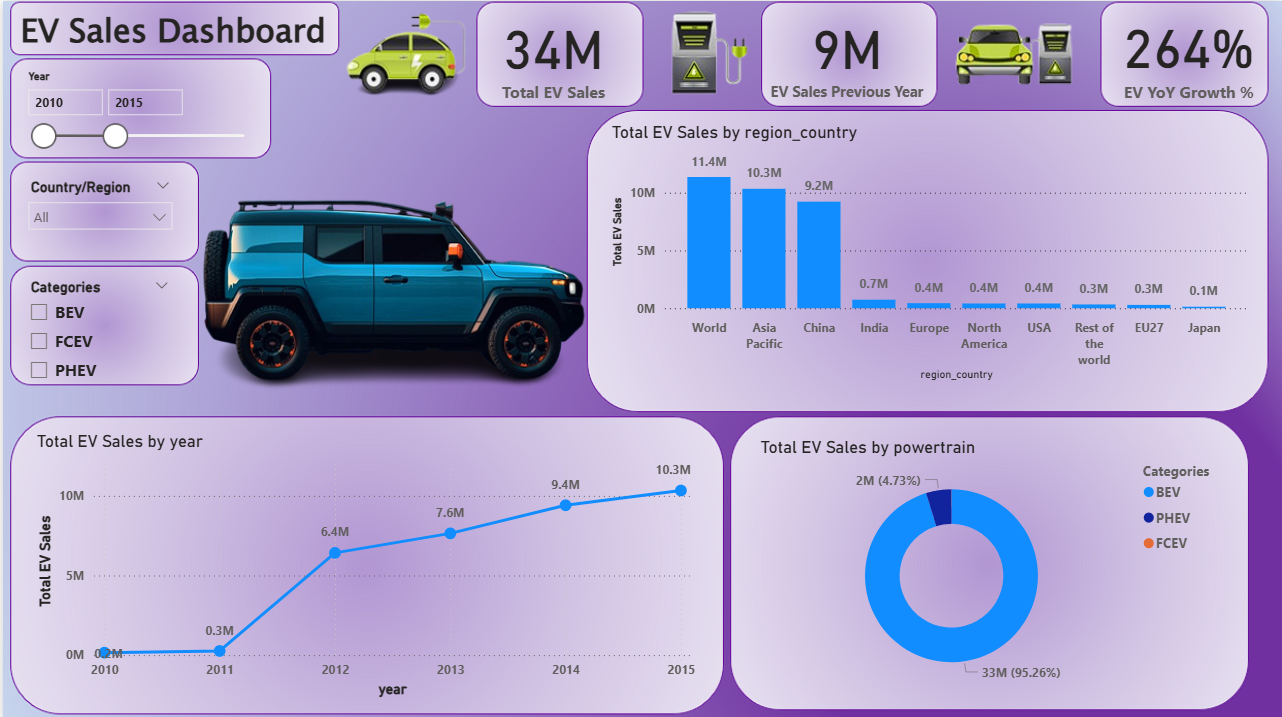

This screenshot's page, from the dashboard's own definition file:
{"tool":"powerbi","page":{"name":"EV Sales","canvas":[1280,720],"ordinal":0},"visuals":[{"type":"lineChart","fields":{"Y":["Sheet1.Total EV Sales"],"Category":["Sheet1.year"]},"box":[29,429.5,668.4,271.4],"z":0},{"type":"slicer","fields":{"Values":["Sheet1.region_country"]},"box":[14.5,172.5,164.1,80.8],"z":1000},{"type":"slicer","fields":{"Values":["Sheet1.year"]},"box":[12.5,63.8,250,85],"z":2000},{"type":"slicer","fields":{"Values":["Sheet1.powertrain"]},"box":[14.5,272.7,162.9,123.1],"z":3000},{"type":"card","fields":{"Values":["Sheet1.Total EV Sales"]},"box":[468.3,1.2,163.9,102.7],"z":4000},{"type":"lineStackedColumnComboChart","fields":{"Category":["Sheet1.region_country"],"Y":["Sheet1.Total EV Sales"]},"box":[603.2,121.9,646.7,263],"z":5000},{"type":"donutChart","fields":{"Category":["Sheet1.powertrain"],"Y":["Sheet1.Total EV Sales"]},"box":[752.8,436.7,481.4,258.2],"z":6000},{"type":"textbox","box":[12.1,1.2,329.4,62.7],"z":7000},{"type":"card","fields":{"Values":["Sheet1.EV YoY Growth %"]},"box":[1090.8,0,189.5,103.9],"z":8000},{"type":"card","fields":{"Values":["Sheet1.EV Sales Previous Year"]},"box":[752.8,0,183.4,103.8],"z":9000}]}

Visuals, with their boxes in screenshot pixels (x1, y1, x2, y2), scaled from the page's 1280x720 canvas onto the 1282x717 screenshot:
lineChart - Sheet1.Total EV Sales x Sheet1.year: [x1=29, y1=428, x2=698, y2=698]
slicer - Sheet1.region_country: [x1=15, y1=172, x2=179, y2=252]
slicer - Sheet1.year: [x1=13, y1=64, x2=263, y2=148]
slicer - Sheet1.powertrain: [x1=15, y1=272, x2=178, y2=394]
card - Sheet1.Total EV Sales: [x1=469, y1=1, x2=633, y2=103]
lineStackedColumnComboChart - Sheet1.region_country x Sheet1.Total EV Sales: [x1=604, y1=121, x2=1252, y2=383]
donutChart - Sheet1.powertrain x Sheet1.Total EV Sales: [x1=754, y1=435, x2=1236, y2=692]
textbox: [x1=12, y1=1, x2=342, y2=64]
card - Sheet1.EV YoY Growth %: [x1=1093, y1=0, x2=1281, y2=103]
card - Sheet1.EV Sales Previous Year: [x1=754, y1=0, x2=938, y2=103]
